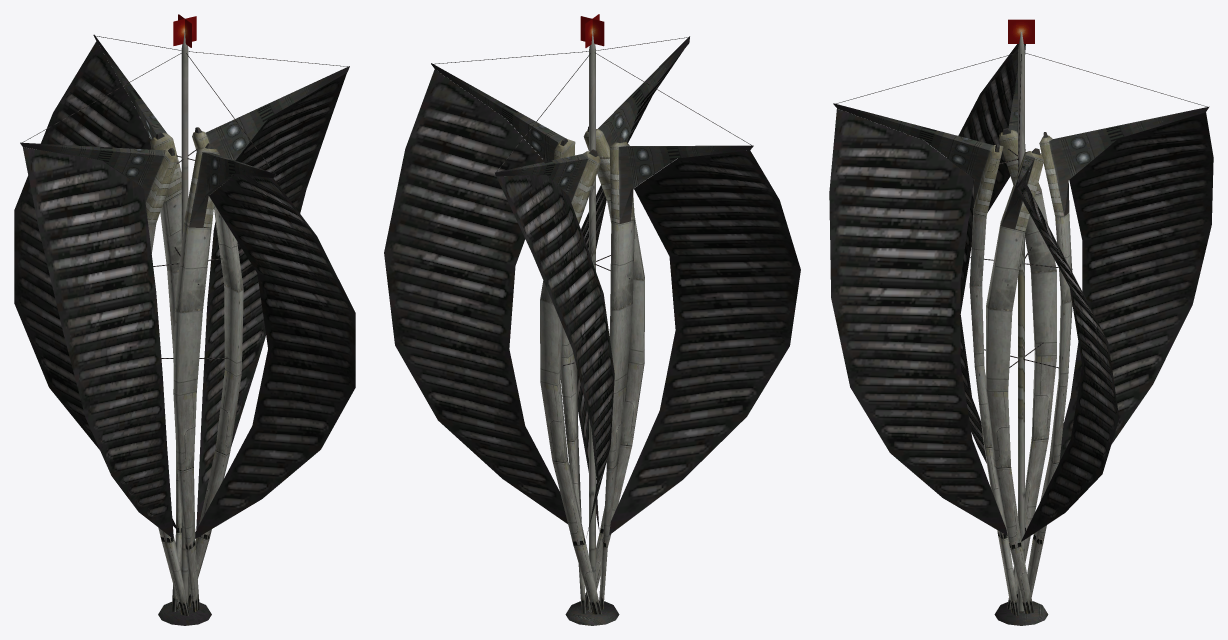
The model's file is ins_all_pow_wind_u0_sails_l0.fbx.
3 renders of one model, left to right at view 1: azimuth 30°, elevation 25°; view 2: azimuth 150°, elevation 25°; view 3: azimuth 270°, elevation 25°, orthographic.
Parts seen in each view (by area): view 1: mesh_node; view 2: mesh_node; view 3: mesh_node.
Boxes of the visible parts, x1,y1,x2,y2 form: mesh_node: (14, 14, 355, 625); mesh_node: (384, 14, 800, 625); mesh_node: (829, 19, 1213, 625).
Bounding box in the file's own units: 5.72 × 9.78 × 5.72.
